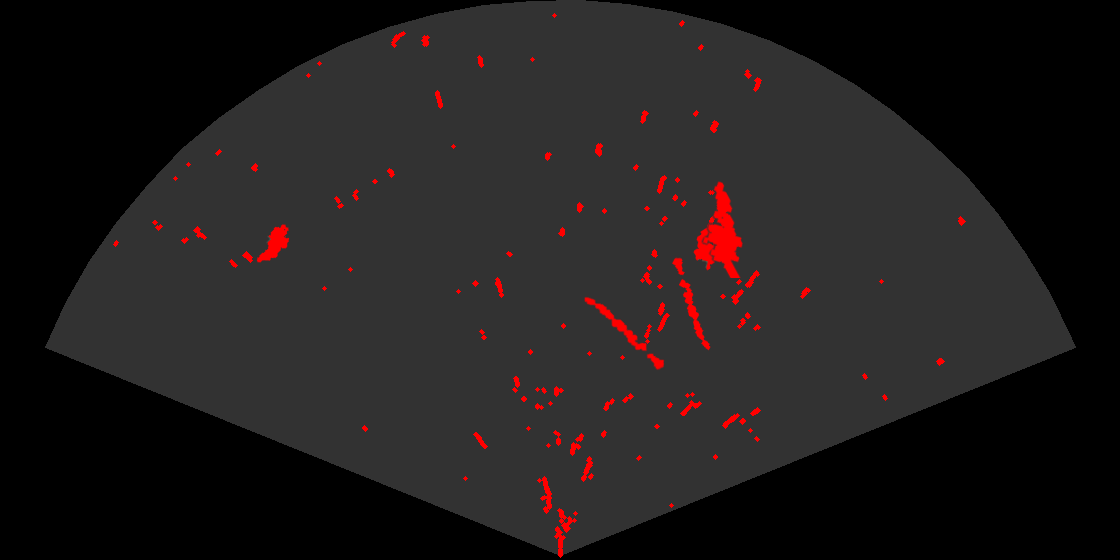AUV: (255, 223, 291, 264), (692, 222, 719, 272)
chain: (583, 295, 666, 372), (671, 255, 712, 352)
frogman: (701, 180, 744, 278)
